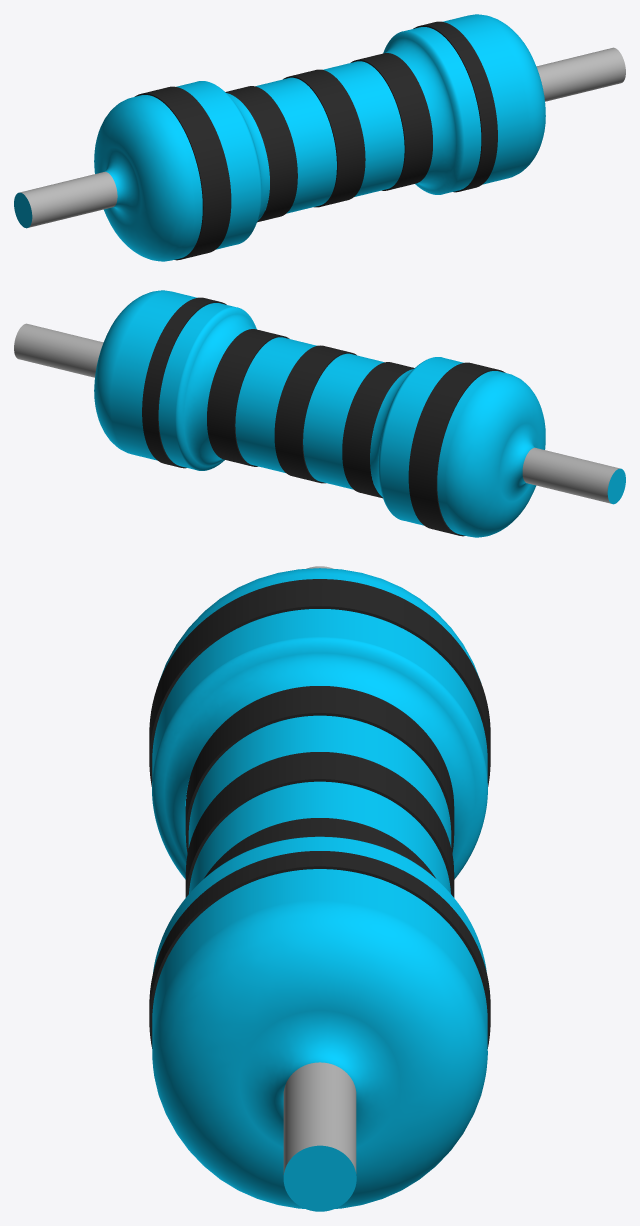
Rendered from resistor.glb.
The picture shows the model from 3 angles, top to bottom: view 1: azimuth 30°, elevation 25°; view 2: azimuth 150°, elevation 25°; view 3: azimuth 270°, elevation 25°; orthographic projection. The views are drawn at different scales.
Parts seen in each view (by area): view 1: Resistor; view 2: Resistor; view 3: Resistor.
Part boxes in pixels (x1,y1,x2,y2): Resistor: [14, 14, 625, 261]; Resistor: [14, 290, 625, 537]; Resistor: [149, 566, 490, 1211].
Size of the model in its own units: 9.4 by 2.34 by 2.34.
